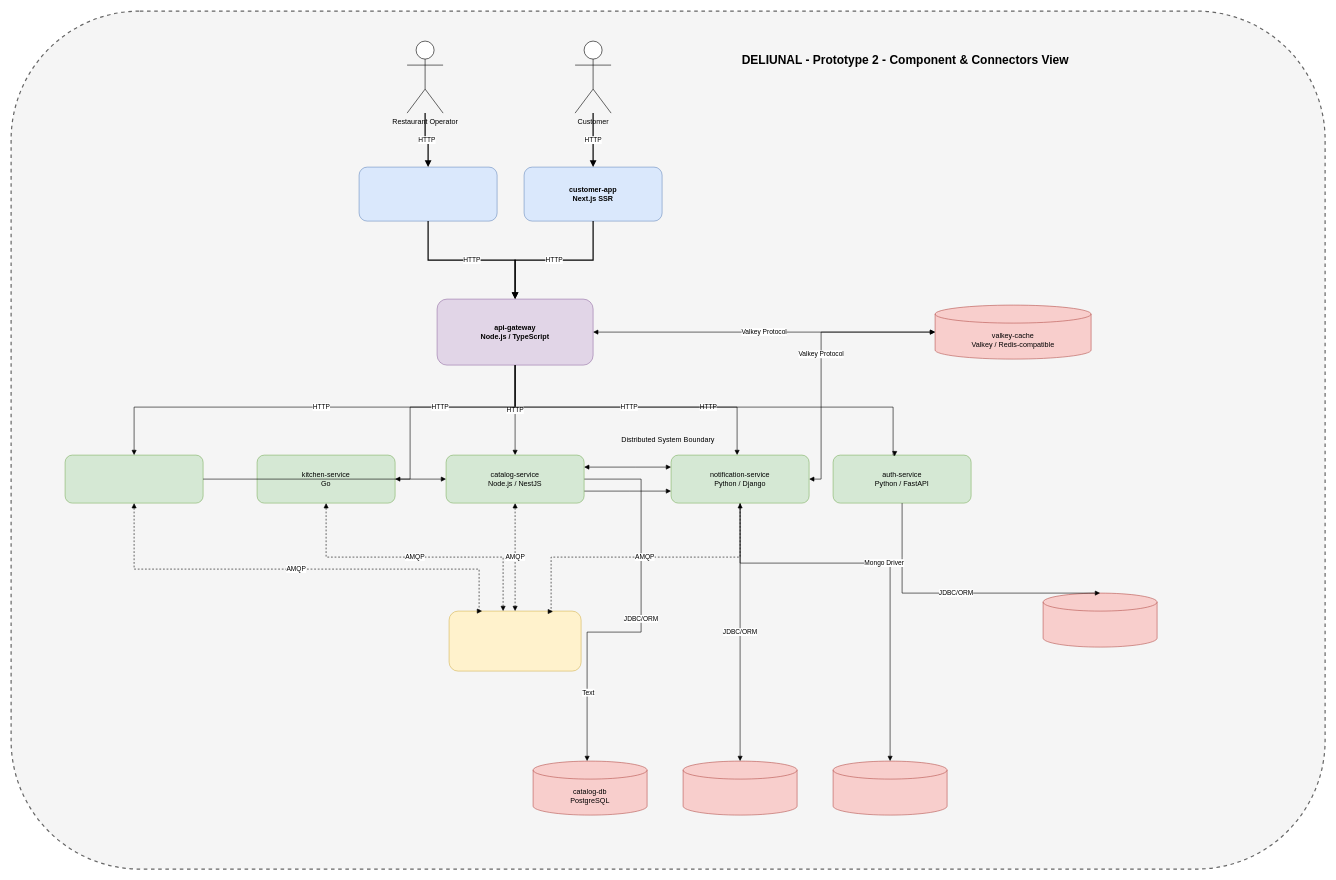
The diagram is 1336 pixels wide and 880 high, and some of its shapes have lost their labels. The centre of each missing label's shape, as x and y in pixels:
"auth-db PostgreSQL" belongs at (x=1099, y=619).
"event-broker RabbitMQ" belongs at (x=514, y=640).
"mongo-db MongoDB" belongs at (x=889, y=787).
"order-db PostgreSQL" belongs at (x=739, y=787).
"order-service Java / Spring Boot" belongs at (x=133, y=478).
"restaurant-dashboard React / Vite" belongs at (x=427, y=193).
